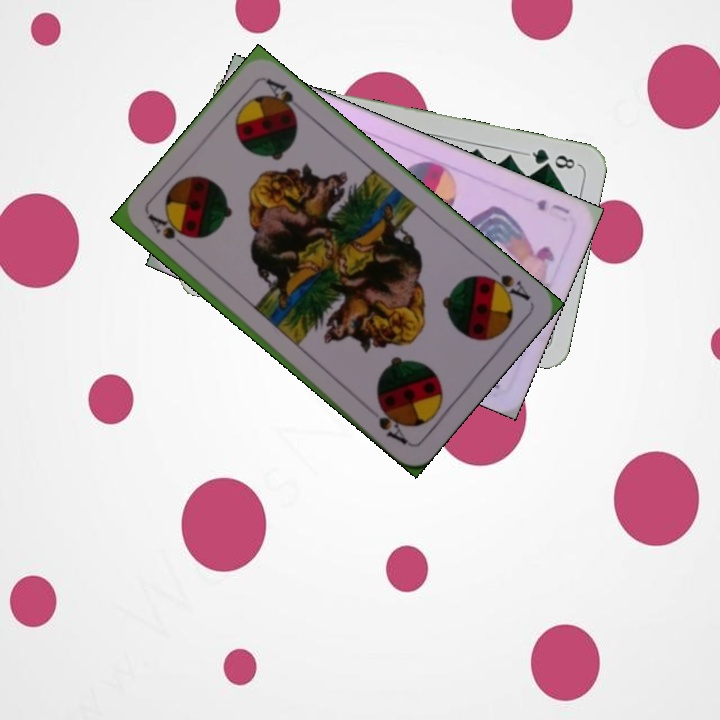G8: (522, 144, 581, 172)
SA: (478, 260, 533, 305), (145, 210, 194, 255)
SU: (531, 195, 572, 217)
